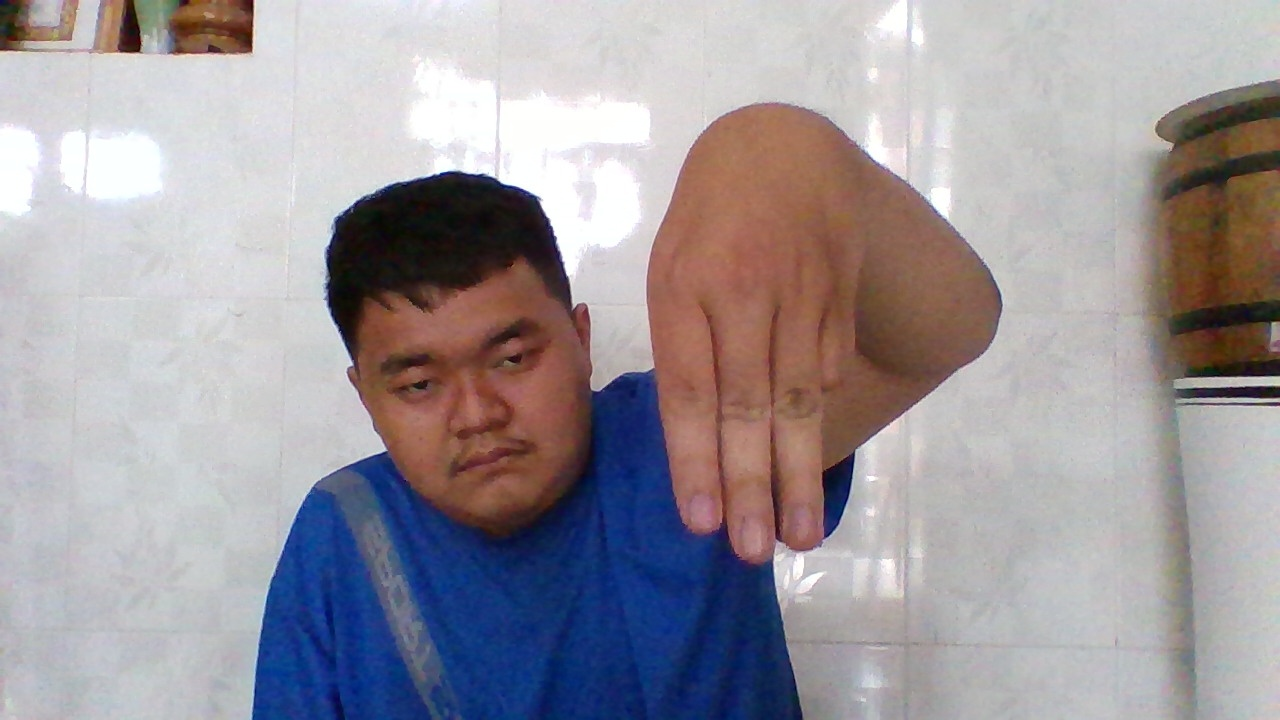M: (657, 96, 860, 563)
